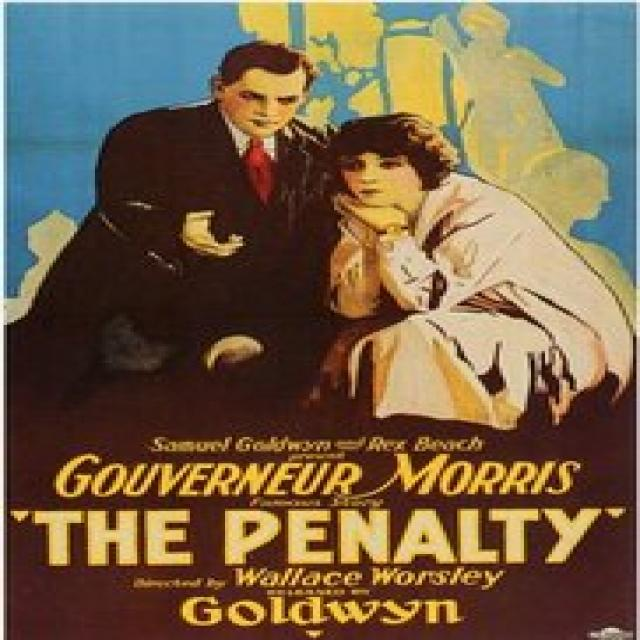movie-judul: (14, 438, 635, 640)
picture: (16, 39, 637, 415)
